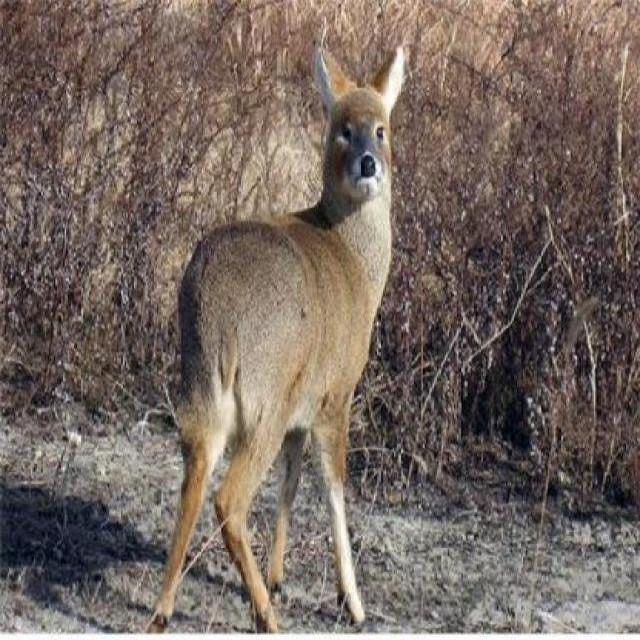deer: (174, 42, 411, 633)
